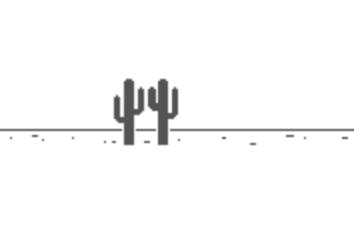dead-t-rex: (109, 74, 182, 149)
